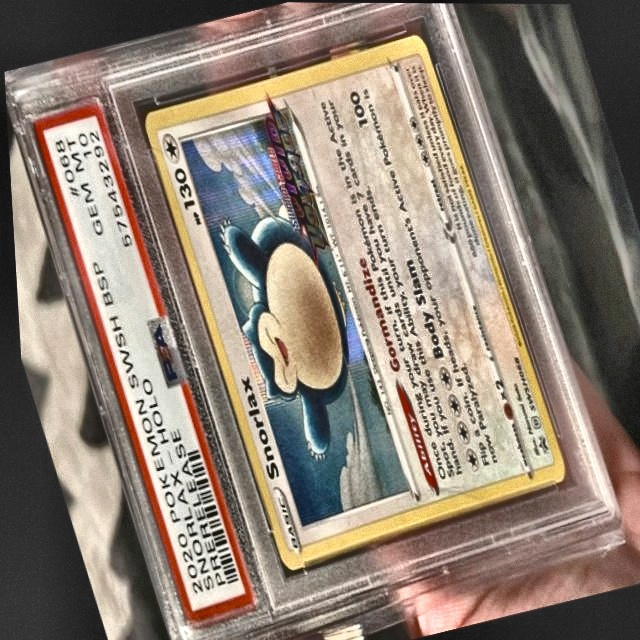card: (142, 30, 559, 571)
